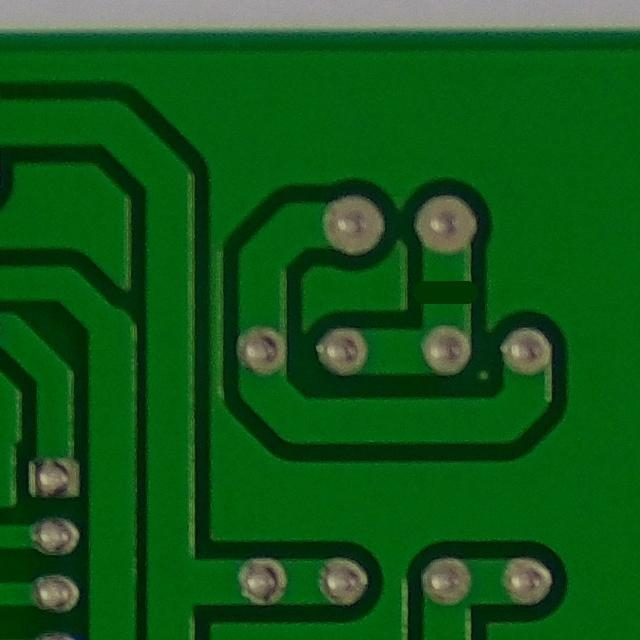open_circuit: (415, 265, 482, 315)
